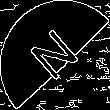N_SE: (25, 23, 85, 87)
